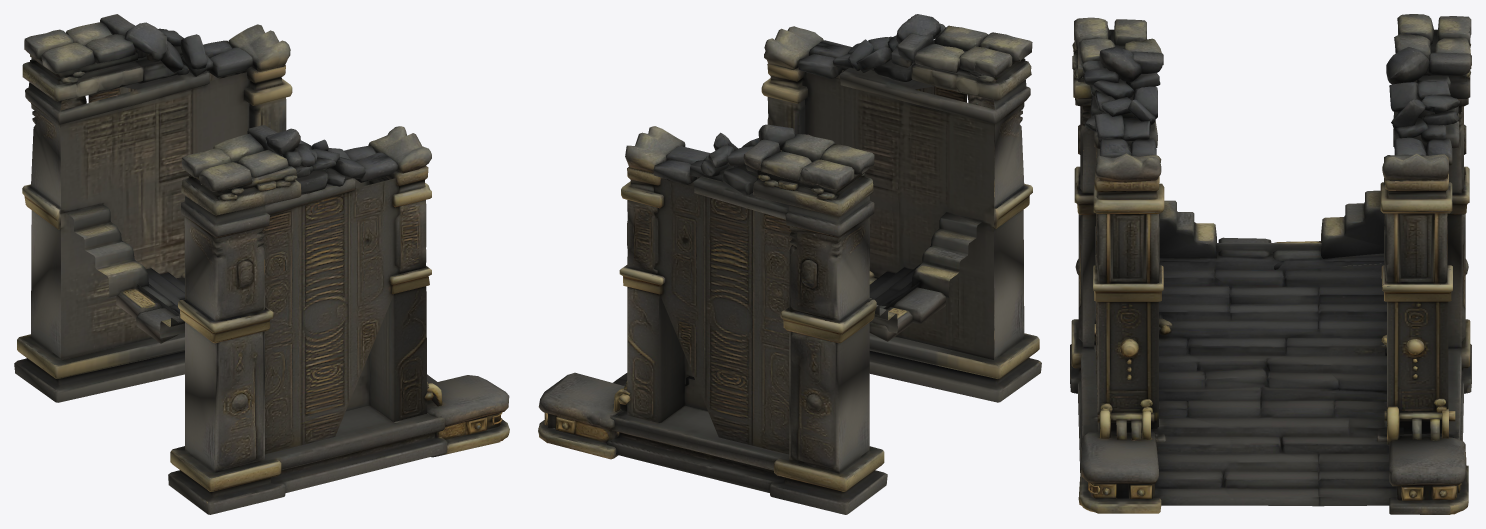
File: ch8_grand_collapsed_stairway_LOD0.glb
The picture shows the model from 3 angles, left to right: view 1: azimuth 30°, elevation 25°; view 2: azimuth 150°, elevation 25°; view 3: azimuth 270°, elevation 25°; orthographic projection. The views are drawn at different scales.
Parts seen in each view (by area): view 1: tripo_node_536b5fd1-2f6e-41d4-aba5-11aede7290c5; view 2: tripo_node_536b5fd1-2f6e-41d4-aba5-11aede7290c5; view 3: tripo_node_536b5fd1-2f6e-41d4-aba5-11aede7290c5.
Boxes of the visible parts, x1,y1,x2,y2 form: tripo_node_536b5fd1-2f6e-41d4-aba5-11aede7290c5: (14,14,509,514); tripo_node_536b5fd1-2f6e-41d4-aba5-11aede7290c5: (538,14,1041,514); tripo_node_536b5fd1-2f6e-41d4-aba5-11aede7290c5: (1070,14,1471,514).
Size of the model in its own units: 0.9355 by 0.9824 by 0.998.
1 material, 1 textured.
